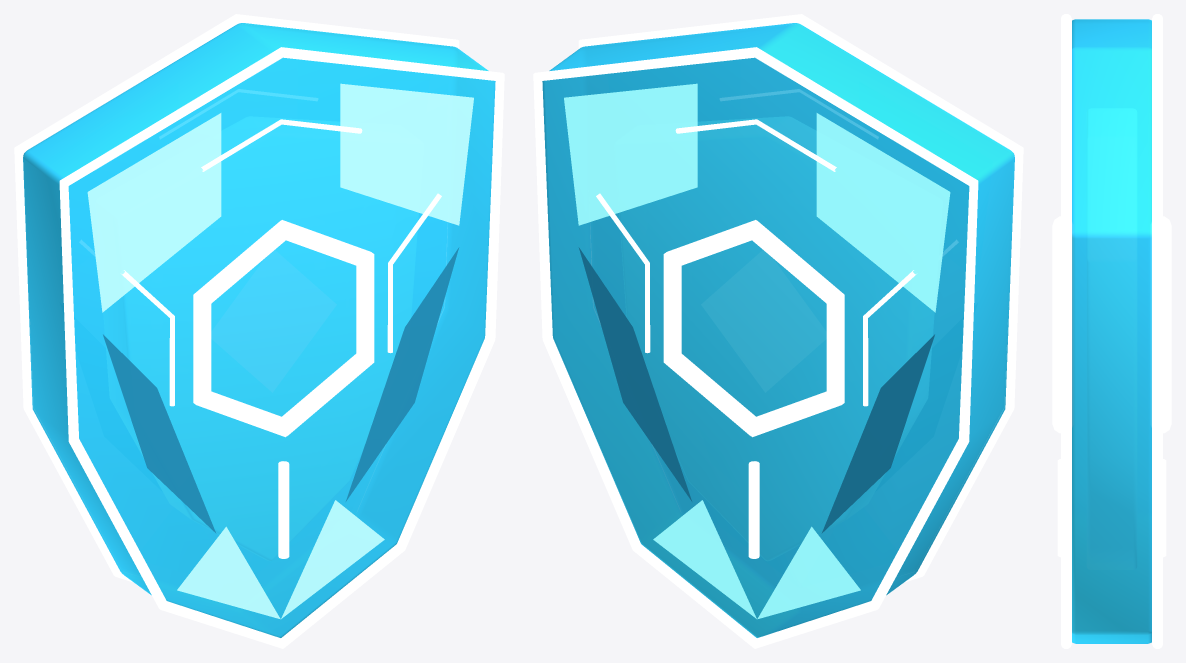
Rendered from armor-pickup-crystal-runes-lod0.glb.
The picture shows the model from 3 angles, left to right: view 1: azimuth 30°, elevation 25°; view 2: azimuth 150°, elevation 25°; view 3: azimuth 270°, elevation 25°; orthographic projection.
Visible parts, largest first — view 1: armor-shield-body, armor-shield-inset, armor-perimeter-light-front, armor-shoulder-facet--1-front, armor-shoulder-facet-1-front, armor-hex-reinforcement-front, armor-hex-center-front, armor-perimeter-light-rear, armor-flank-facet-1-front, armor-flank-facet--1-front, armor-keel-facet-1-front, armor-keel-facet--1-front (+4 smaller); view 2: armor-shield-body, armor-shield-inset, armor-perimeter-light-rear, armor-shoulder-facet--1-rear, armor-shoulder-facet-1-rear, armor-hex-reinforcement-rear, armor-hex-center-rear, armor-perimeter-light-front, armor-flank-facet-1-rear, armor-flank-facet--1-rear, armor-keel-facet-1-rear, armor-keel-facet--1-rear (+4 smaller); view 3: armor-shield-body, armor-shield-inset, armor-perimeter-light-front, armor-perimeter-light-rear, armor-hex-reinforcement-front, armor-hex-reinforcement-rear, armor-center-spine-front, armor-center-spine-rear.
Boxes of the visible parts, <box> form: armor-shield-body: <box>23,23,495,637</box>; armor-shield-inset: <box>104,117,418,560</box>; armor-perimeter-light-front: <box>59,47,504,648</box>; armor-shoulder-facet--1-front: <box>87,113,221,312</box>; armor-shoulder-facet-1-front: <box>340,83,473,225</box>; armor-hex-reinforcement-front: <box>193,220,374,437</box>; armor-hex-center-front: <box>212,251,335,391</box>; armor-perimeter-light-rear: <box>14,14,459,582</box>; armor-flank-facet-1-front: <box>345,247,459,501</box>; armor-flank-facet--1-front: <box>103,334,216,533</box>; armor-keel-facet-1-front: <box>281,500,384,618</box>; armor-keel-facet--1-front: <box>177,526,280,619</box>; armor-shield-body: <box>542,23,1014,637</box>; armor-shield-inset: <box>619,117,933,560</box>; armor-perimeter-light-rear: <box>533,47,978,648</box>; armor-shoulder-facet--1-rear: <box>816,113,950,312</box>; armor-shoulder-facet-1-rear: <box>564,83,697,225</box>; armor-hex-reinforcement-rear: <box>663,220,844,437</box>; armor-hex-center-rear: <box>702,251,825,391</box>; armor-perimeter-light-front: <box>578,14,1023,582</box>; armor-flank-facet-1-rear: <box>578,247,692,501</box>; armor-flank-facet--1-rear: <box>821,334,934,533</box>; armor-keel-facet-1-rear: <box>653,500,756,618</box>; armor-keel-facet--1-rear: <box>757,526,860,619</box>; armor-shield-body: <box>1072,19,1151,643</box>; armor-shield-inset: <box>1087,109,1136,569</box>; armor-perimeter-light-front: <box>1061,14,1071,648</box>; armor-perimeter-light-rear: <box>1152,14,1162,648</box>; armor-hex-reinforcement-front: <box>1052,216,1072,433</box>; armor-hex-reinforcement-rear: <box>1151,216,1171,433</box>; armor-center-spine-front: <box>1057,459,1060,557</box>; armor-center-spine-rear: <box>1163,459,1166,557</box>.
Bounding box in the file's own units: 0.7338 × 0.9496 × 0.1691.
